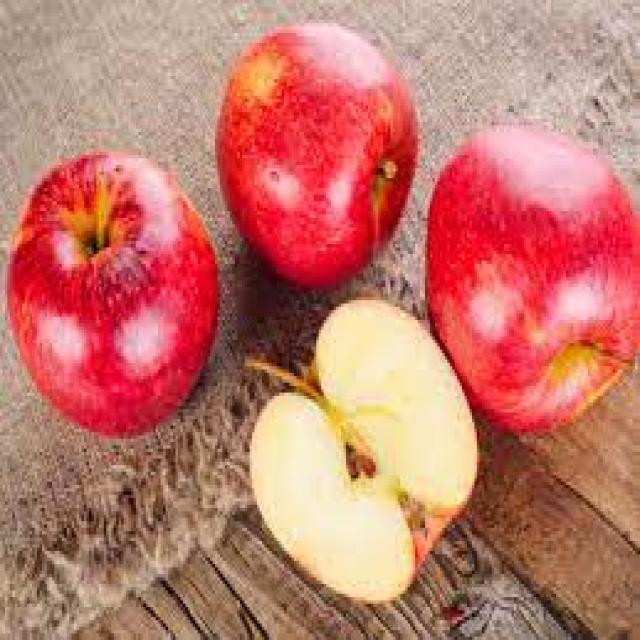apple: (3, 143, 235, 434)
